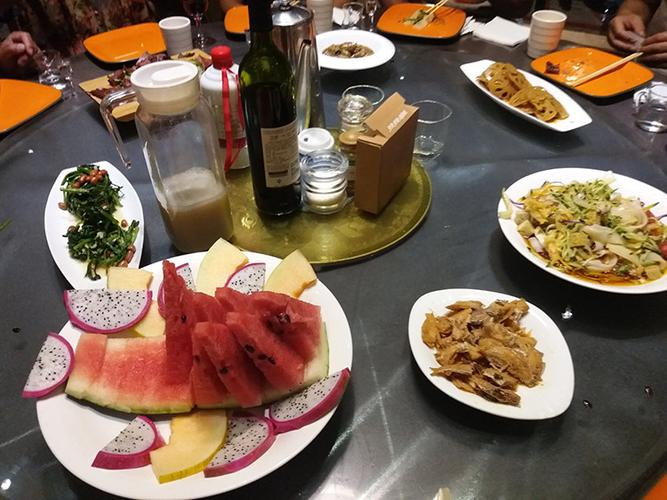food: (46, 240, 362, 440), (497, 152, 665, 296), (404, 276, 574, 417), (42, 156, 149, 285), (468, 55, 574, 131), (186, 236, 271, 294), (316, 23, 390, 71)
